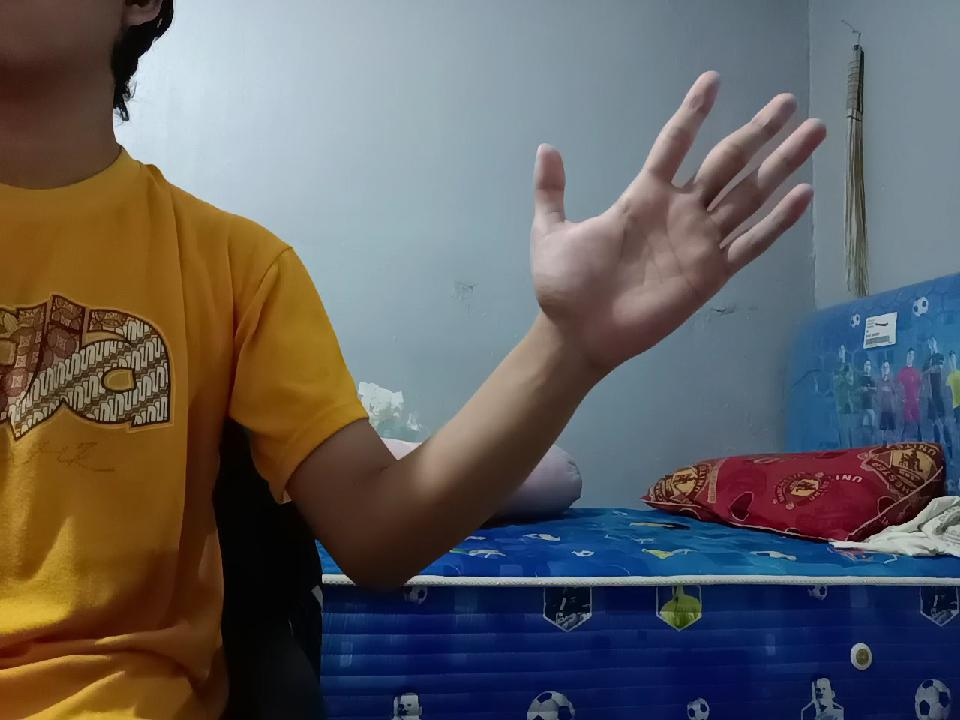paper: (516, 66, 818, 359)
